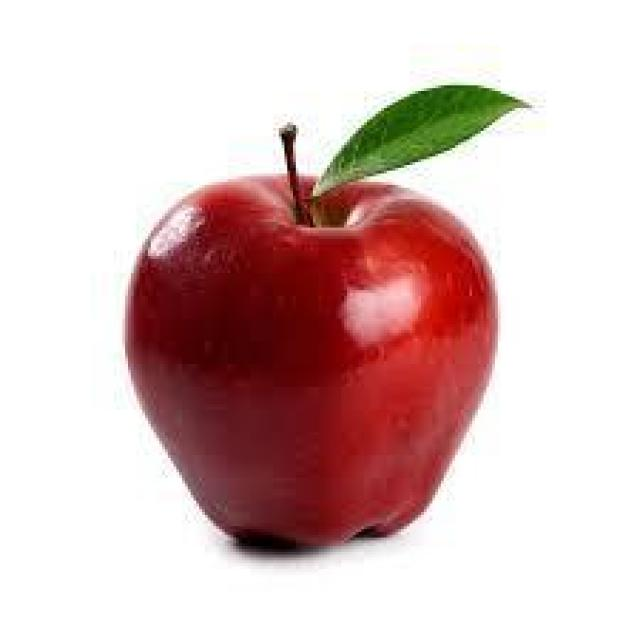maca: (120, 82, 529, 552)
